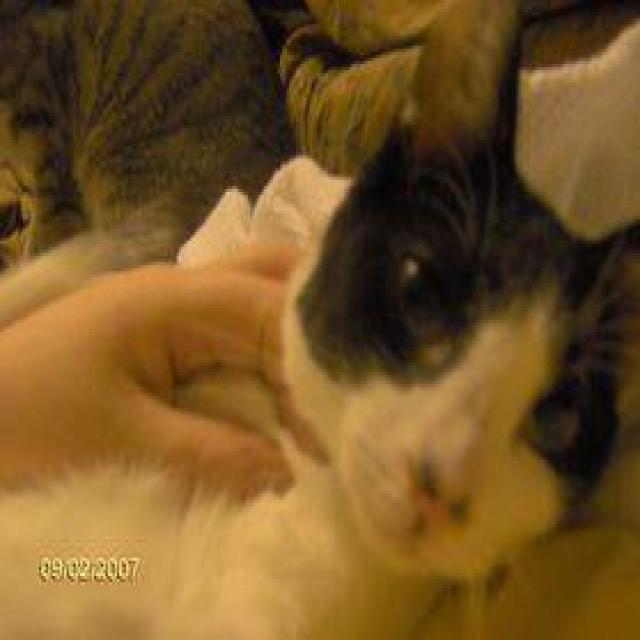cat: (0, 113, 629, 637)
